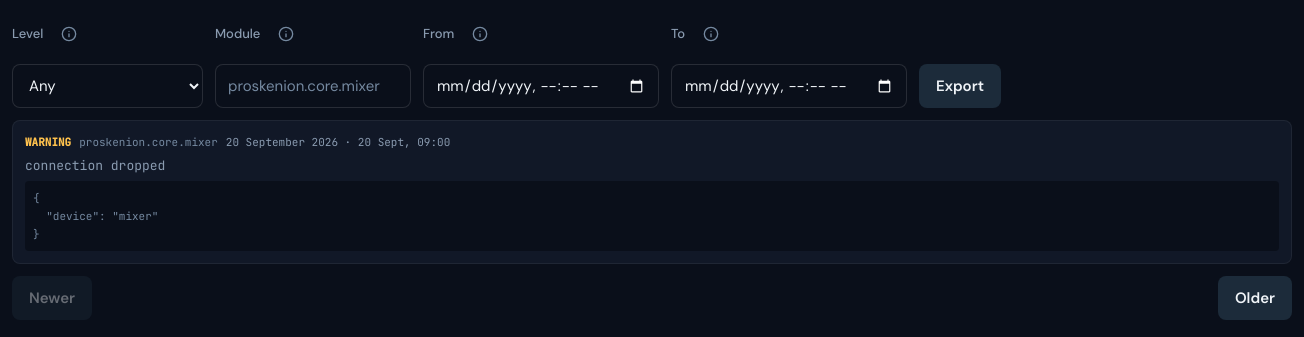
Test: SystemLogViewer › pages with the Older and Newer buttons, Older gated on has_more
This screenshot has width=1304, height=337.
Check: the button "Newer" is disabled, box [12, 276, 92, 320]
What coordinates should you click on to do the following:
click the button "Older"
I would click on:
 (1255, 298)
Its box is [1218, 276, 1292, 320].
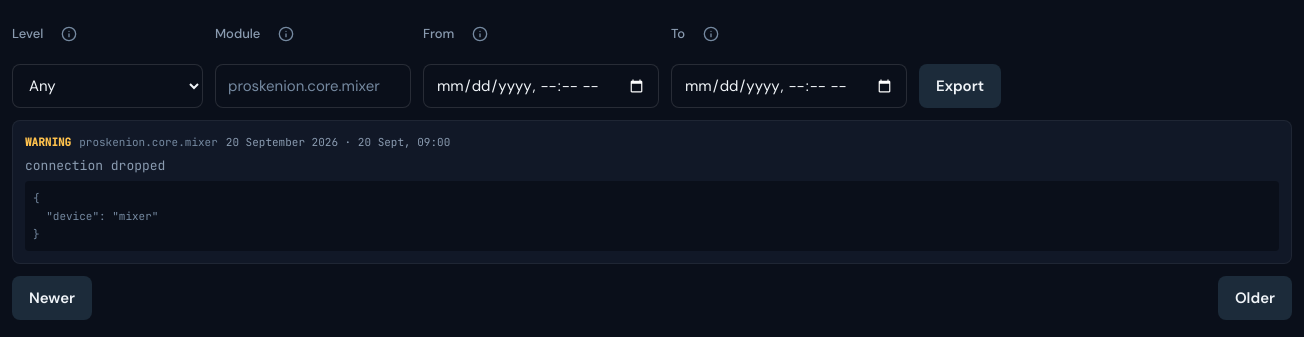
Check: the button "Newer" is enabled, box [12, 276, 92, 320]
